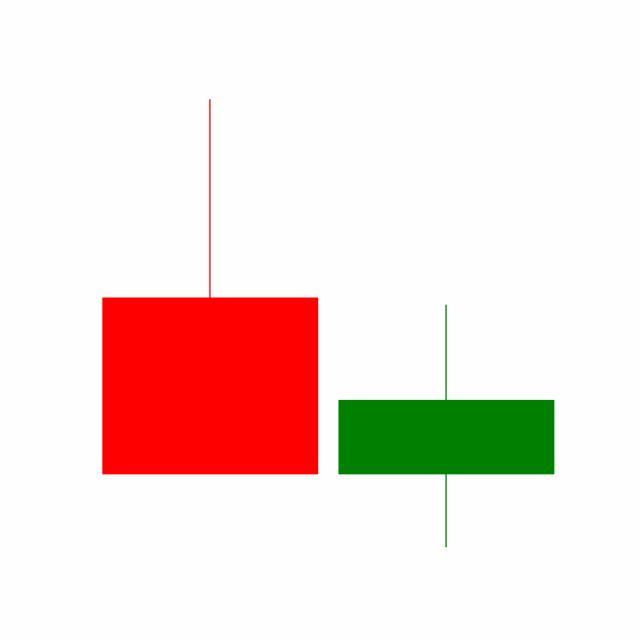Spinning Top: (328, 303, 566, 551)
